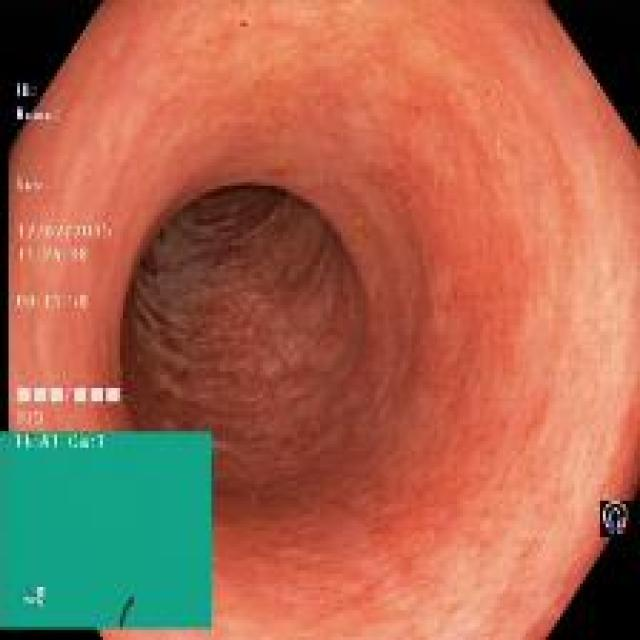ulcerative-colitis-grade-1: (11, 81, 640, 638)
